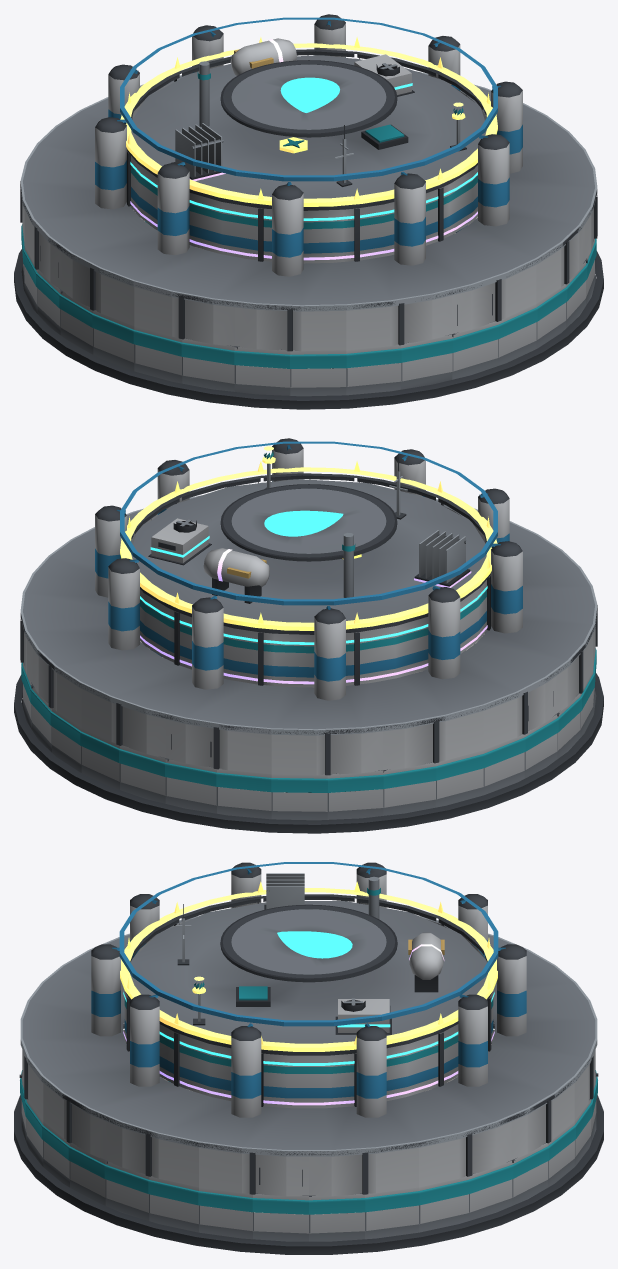
The model's file is water_recycler_l_far.glb.
3 views of the same model, one above another, from view 1: azimuth 30°, elevation 25°; view 2: azimuth 150°, elevation 25°; view 3: azimuth 270°, elevation 25° (orthographic).
Visible parts, largest first — view 1: Roof, Base, L5, L2, L4, L3; view 2: Roof, Base, L5, L2, L4, L3; view 3: Roof, Base, L5, L2, L4, L3.
Part boxes in pixels (bbox=[...]): Roof: bbox=[20, 14, 597, 351]; Base: bbox=[14, 207, 603, 409]; L5: bbox=[120, 37, 497, 206]; L2: bbox=[20, 71, 597, 311]; L4: bbox=[130, 38, 477, 260]; L3: bbox=[130, 54, 477, 220]; Roof: bbox=[20, 438, 597, 775]; Base: bbox=[14, 631, 603, 833]; L5: bbox=[120, 446, 497, 630]; L2: bbox=[20, 457, 597, 735]; L4: bbox=[140, 530, 487, 684]; L3: bbox=[140, 518, 487, 644]; Roof: bbox=[22, 862, 595, 1196]; Base: bbox=[14, 1020, 603, 1254]; L5: bbox=[120, 881, 497, 1051]; L2: bbox=[20, 904, 597, 1156]; L4: bbox=[123, 873, 494, 1105]; L3: bbox=[123, 992, 494, 1065].
Bounding box in the file's own units: 15.35 × 6.2 × 15.35.
